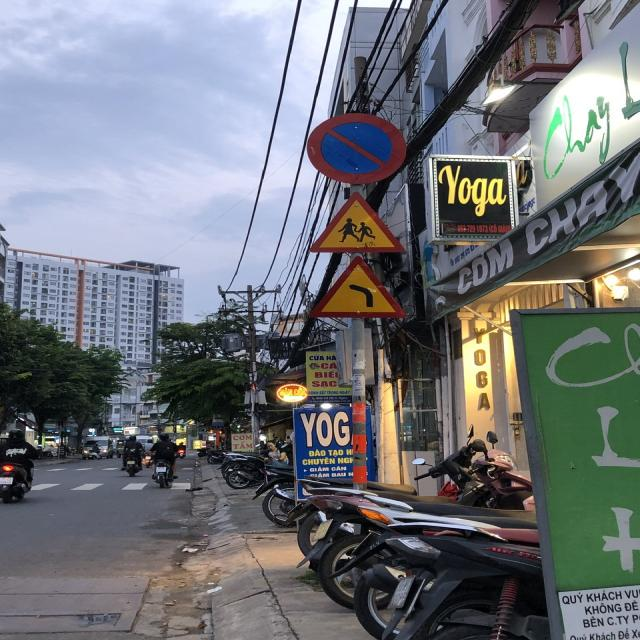Bien bao cam do xe: (298, 105, 416, 186)
Bien bao cho ngoat nguy hiem: (307, 254, 414, 324)
Bien bao tre em: (297, 185, 417, 258)
